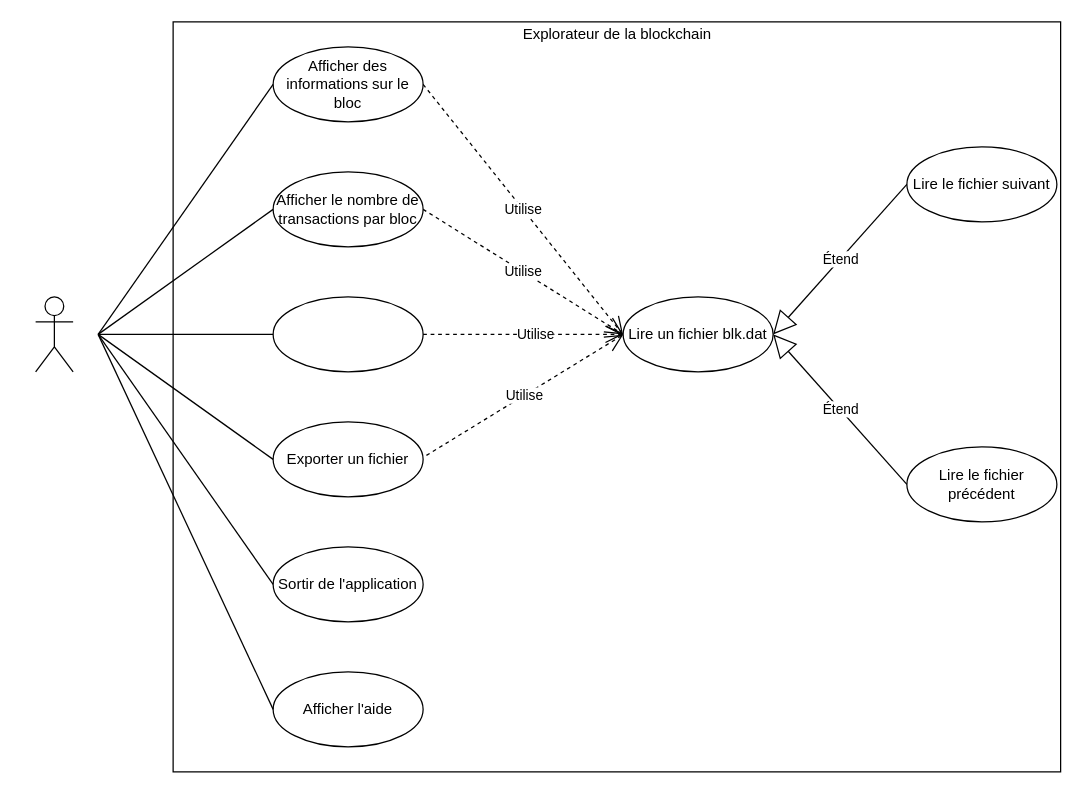
This 1083x794 diagram has some shape labels left out. Each missing label, with the centre of its shape:
Afficher la plus grande valeur par bloc: the point at 347,334
Utilisateur: the point at 53,334
